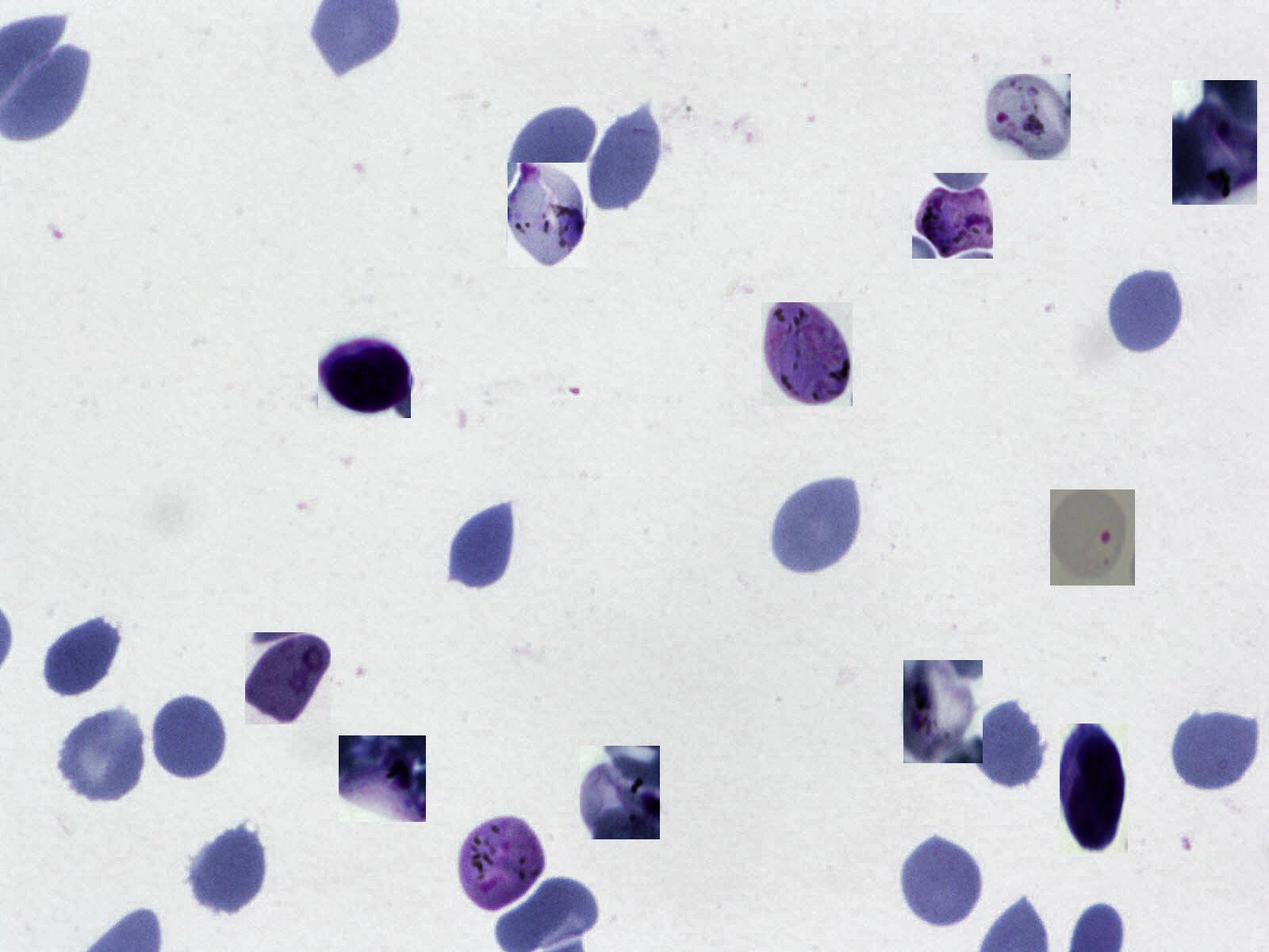Infected: (1172, 80, 1257, 205), (761, 302, 853, 406), (455, 812, 547, 914), (1060, 724, 1128, 854), (903, 660, 983, 763), (508, 163, 587, 267), (1050, 489, 1135, 585), (318, 332, 411, 418), (245, 632, 331, 724), (339, 735, 426, 822), (983, 74, 1071, 160), (580, 746, 660, 839), (912, 173, 993, 259)
Uninfected: (770, 471, 866, 579), (54, 701, 148, 807), (508, 102, 600, 203), (586, 102, 665, 217), (899, 830, 987, 933), (188, 818, 272, 919), (1170, 703, 1263, 792), (970, 695, 1047, 794), (1106, 264, 1187, 358), (42, 613, 125, 699), (151, 691, 229, 782), (447, 496, 518, 592)
